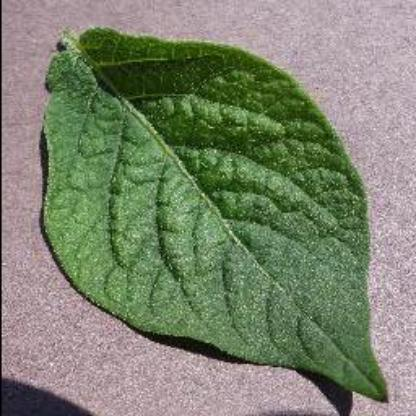Healthy-plant: (38, 22, 396, 400)
